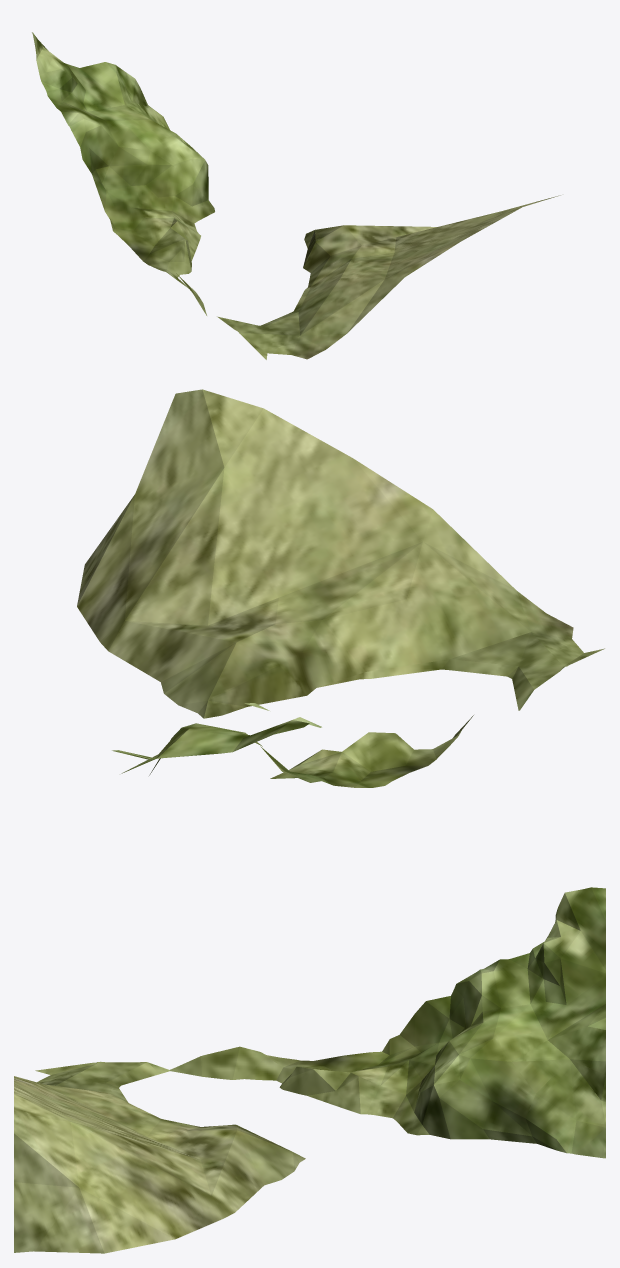
3 renders of one model, top to bottom at view 1: azimuth 30°, elevation 25°; view 2: azimuth 150°, elevation 25°; view 3: azimuth 270°, elevation 25°, orthographic. The views are drawn at different scales.
Bounding box in the file's own units: 2.16 × 1.01 × 2.95.
1 material, 1 textured.
